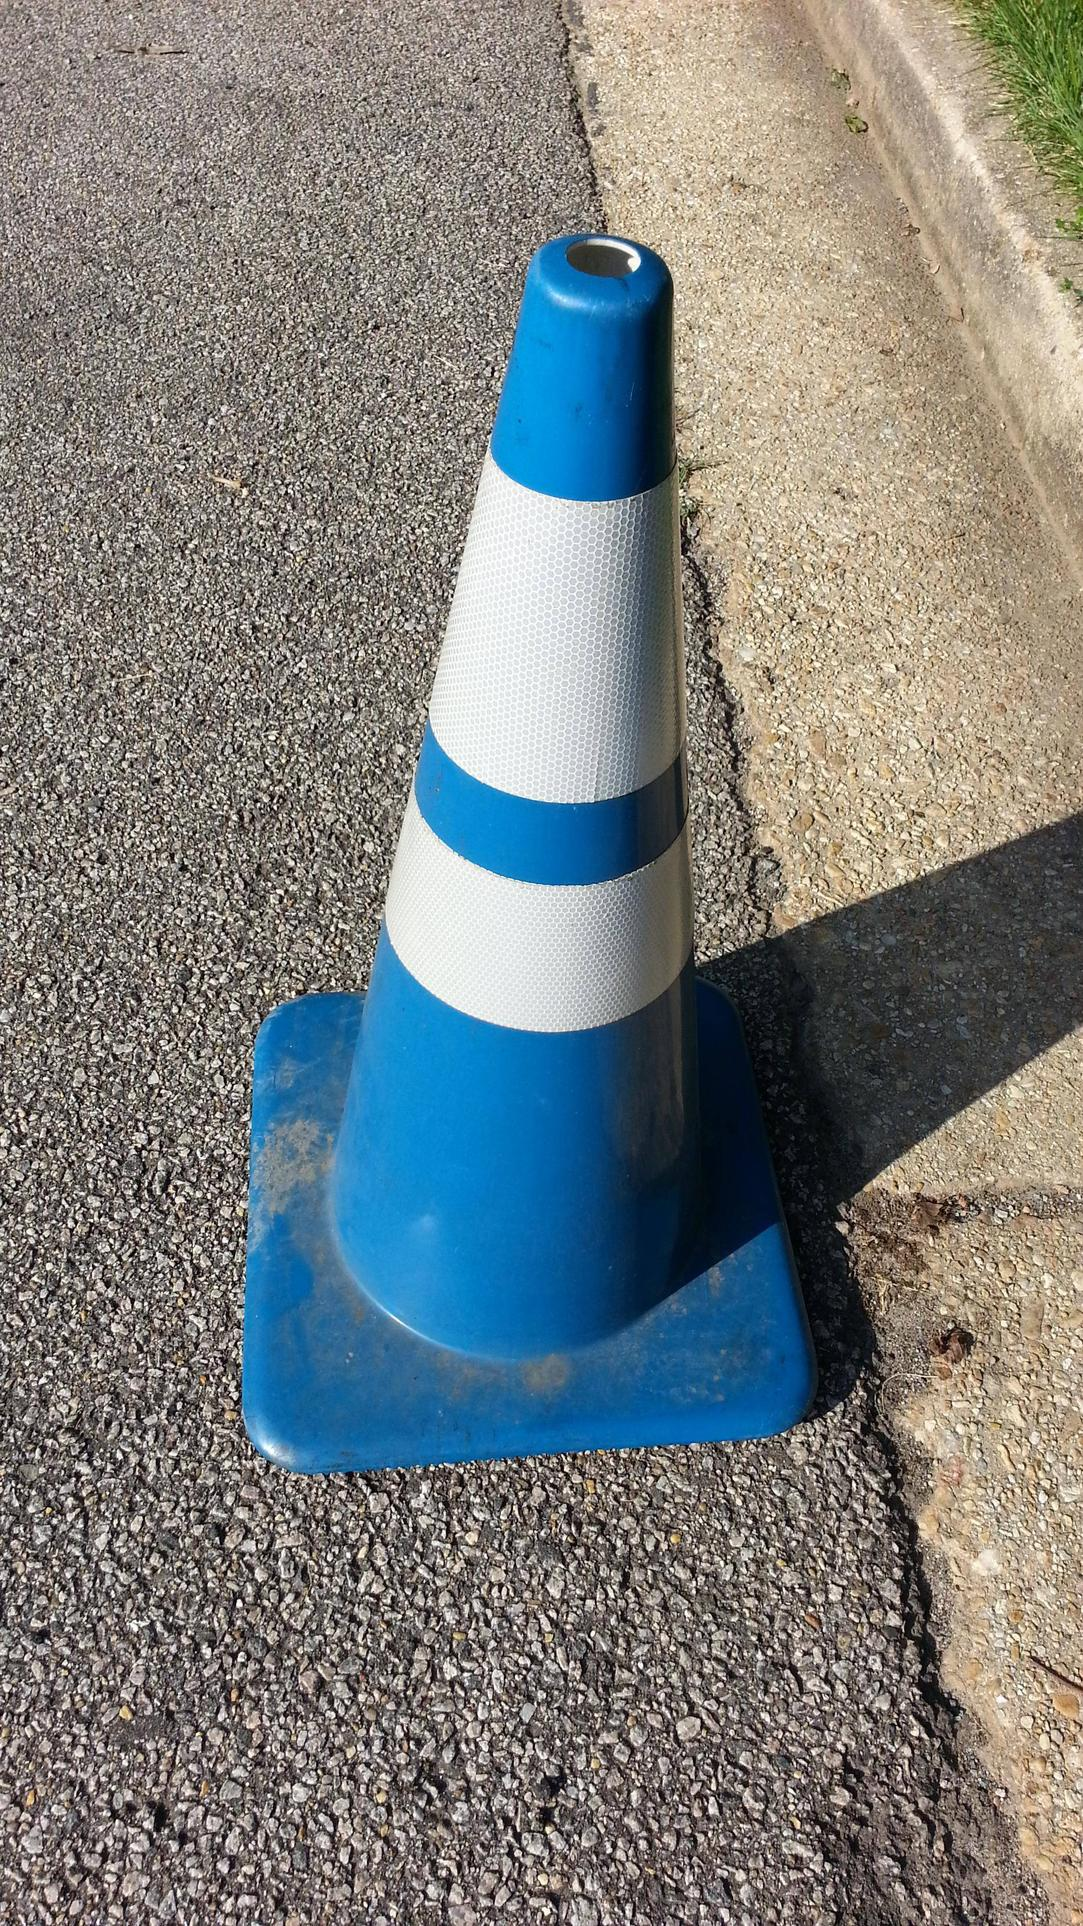cone: (239, 222, 846, 1472)
